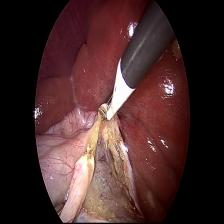Hook: (93, 63, 136, 126)
